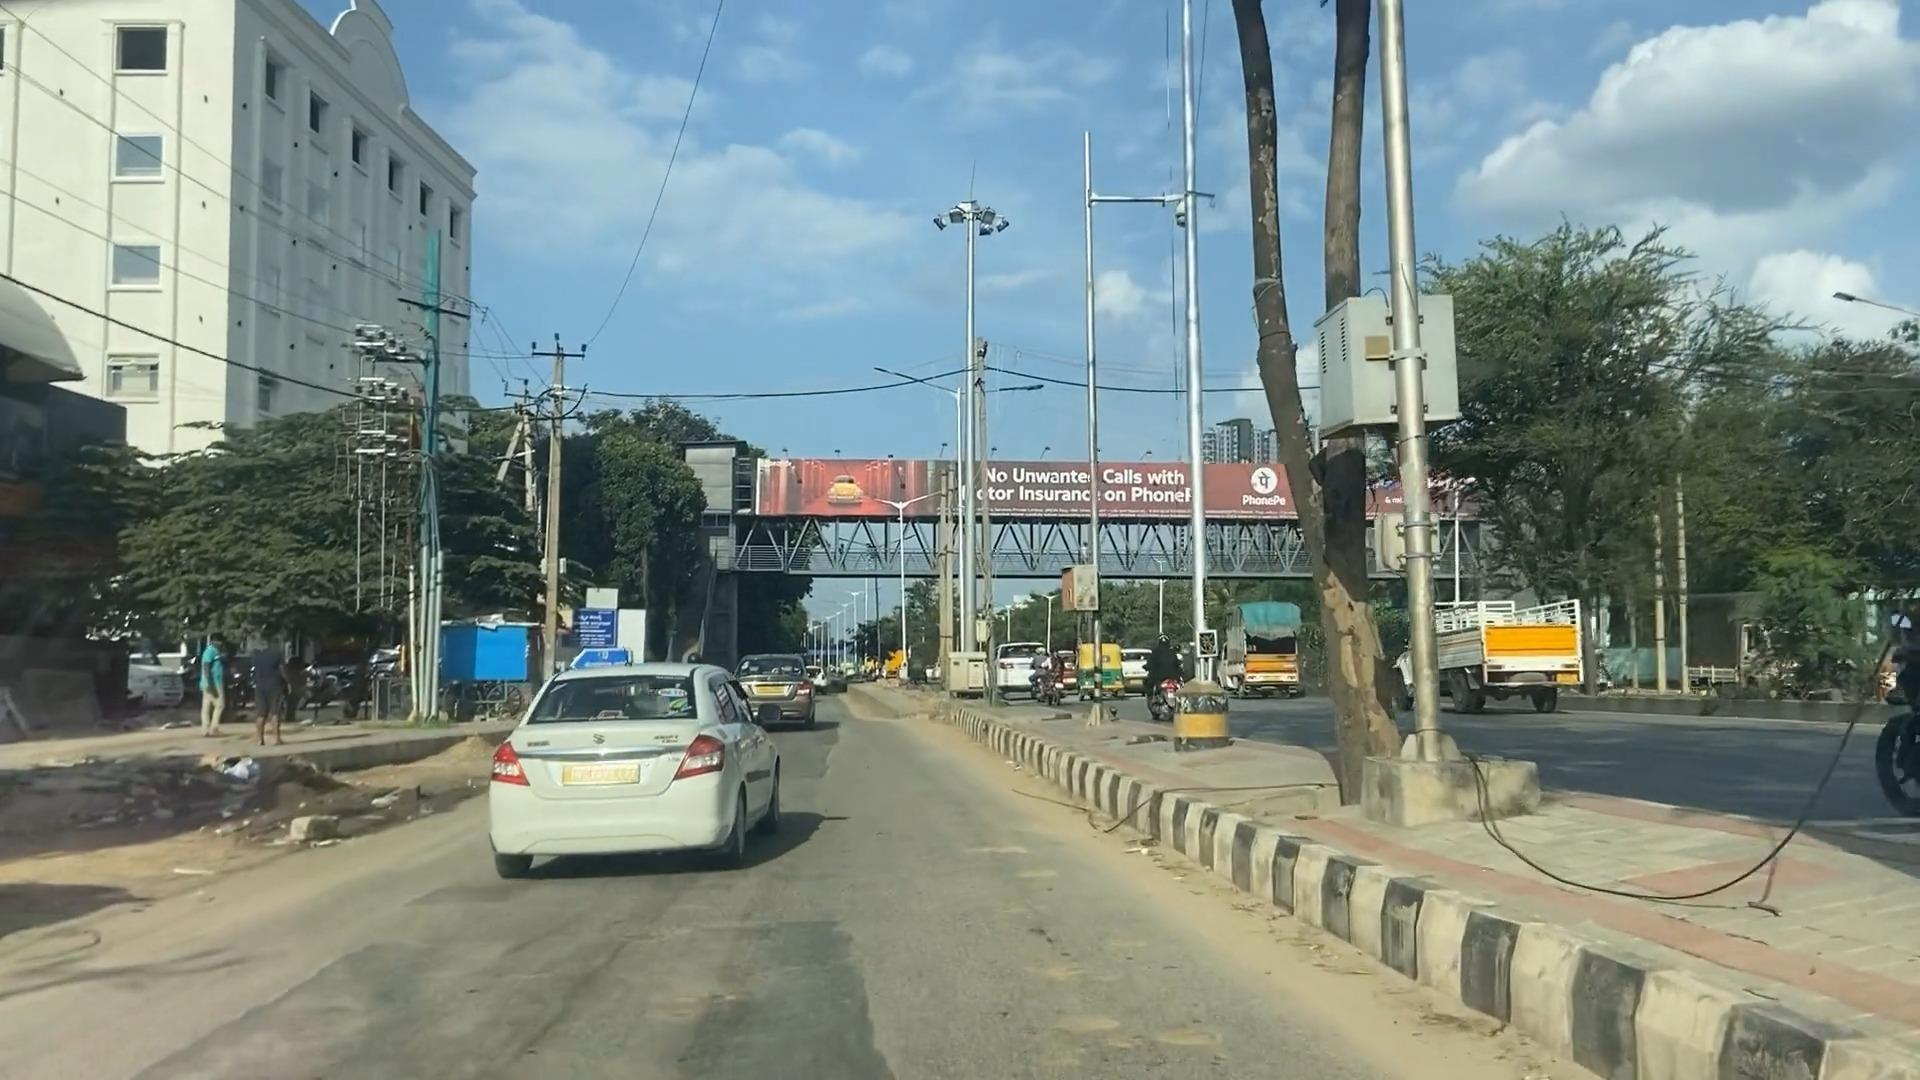LMV: (489, 659, 752, 878), (723, 646, 822, 725)
UnsurfacedRoad: (318, 901, 920, 1080)
